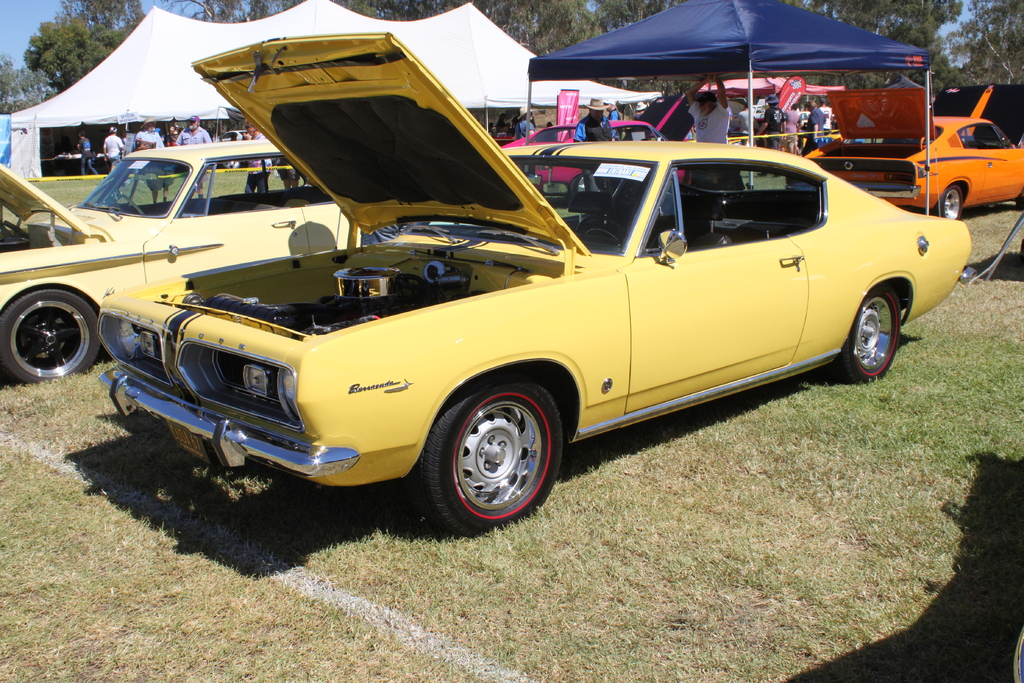Car: (0, 28, 1023, 533)
